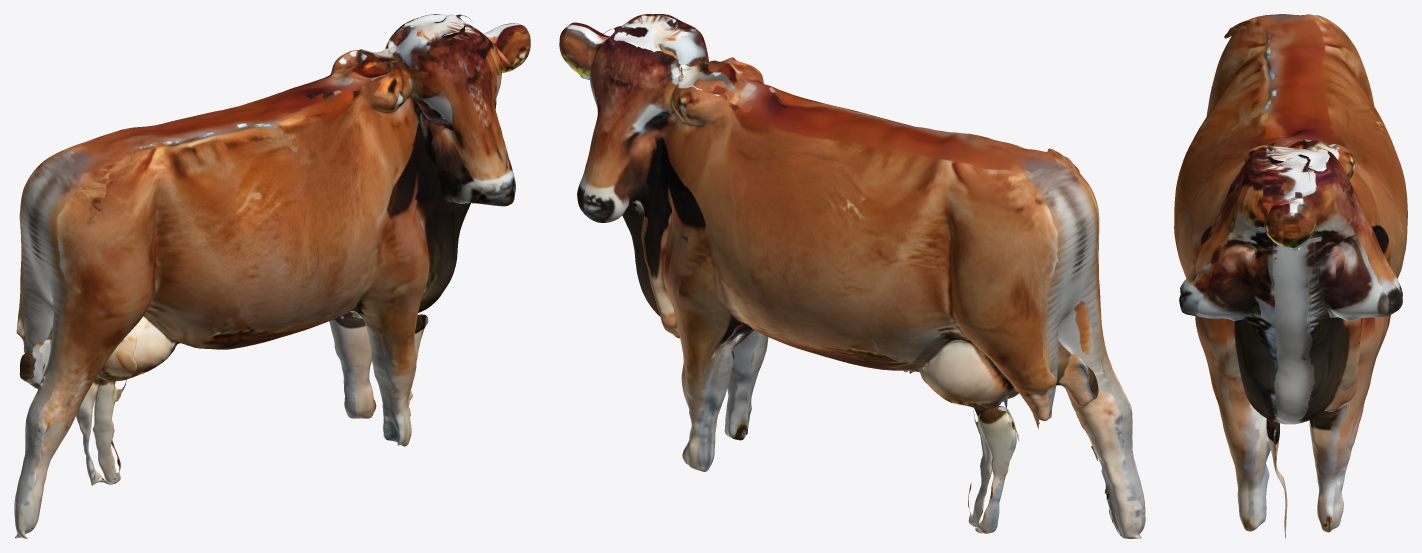
Rendered from joven.glb.
The picture shows the model from 3 angles, left to right: view 1: azimuth 30°, elevation 25°; view 2: azimuth 150°, elevation 25°; view 3: azimuth 270°, elevation 25°; orthographic projection. The views are drawn at different scales.
Visible parts, largest first — view 1: mesh; view 2: mesh; view 3: mesh.
Part boxes in pixels (x1,y1,x2,y2): mesh: [14, 14, 530, 538]; mesh: [559, 14, 1145, 538]; mesh: [1174, 14, 1407, 538].
Bounding box in the file's own units: 1.63 × 1.15 × 0.5981.
1 material, 1 textured.
